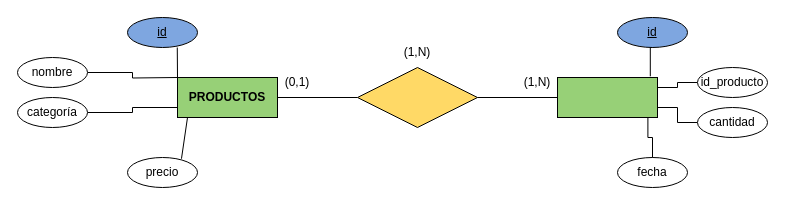
Some shapes in this 785 by 205 pixel diagram are drawn without their labels. The centre of each missing label's shape, as x and y in pixels:
"tiene" goes at (417,97).
"VENTAS" goes at (607,97).
